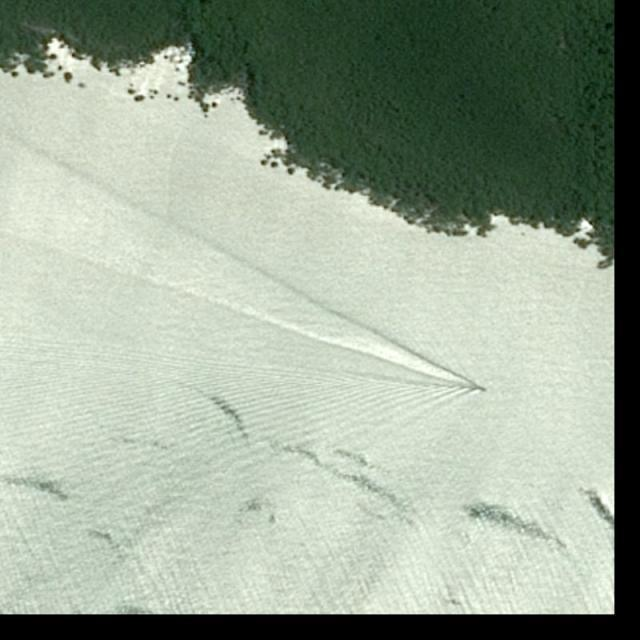ship: (477, 385, 488, 393)
